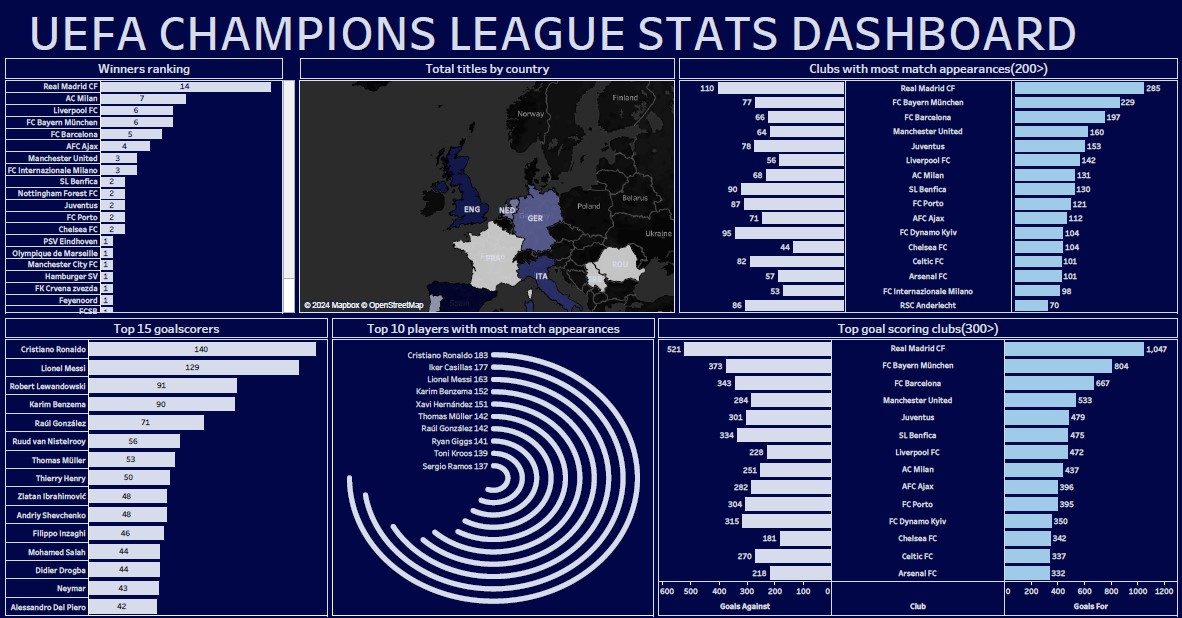

Layout of this report page (visuals, bound fields, positions):
{"tool":"tableau","page":{"name":"Dashboard 1","canvas":[2000,1050],"ordinal":0},"visuals":[{"type":"text","box":[8,8,1984,86]},{"type":"worksheet","title":"Winners ranking ","mark":"Automatic","rows":["Club"],"cols":["Titles"],"box":[8,94,496,437]},{"type":"worksheet","title":"Total titles by country ","mark":"Multipolygon","box":[504,94,640,437]},{"type":"worksheet","title":"Clubs with most match appearances(200>)","mark":"Automatic","rows":["Club"],"cols":["Loss","Calculation_715227962171555840","Win"],"box":[1144,94,848,437]},{"type":"worksheet","title":"Top 15 goalscorers","mark":"Automatic","rows":["Player"],"cols":["Goals"],"box":[8,531,550.5,511]},{"type":"worksheet","title":"Top 10 players with most match appearances","mark":"Line","box":[558.5,531,550.5,511]},{"type":"worksheet","title":"Top goal scoring clubs(300>)","mark":"Automatic","rows":["Club"],"cols":["Goals Against","Calculation_715227962171555840","Goals For"],"box":[1109,531,883,511]}]}

Visuals, with their boxes in screenshot pixels (x1, y1, x2, y2), scaled from the page's 2000x1050 canvas onto the 1182x618 screenshot:
text: [5,5,1177,55]
"Winners ranking " worksheet: [5,55,298,313]
"Total titles by country " worksheet (Multipolygon marks): [298,55,676,313]
"Clubs with most match appearances(200>)" worksheet: [676,55,1177,313]
"Top 15 goalscorers" worksheet: [5,313,330,613]
"Top 10 players with most match appearances" worksheet (Line marks): [330,313,655,613]
"Top goal scoring clubs(300>)" worksheet: [655,313,1177,613]
